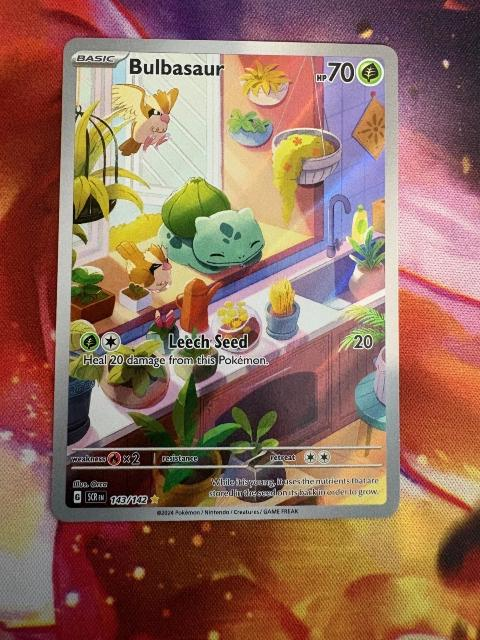Card: (45, 34, 404, 526)
Name: (127, 53, 229, 80)
